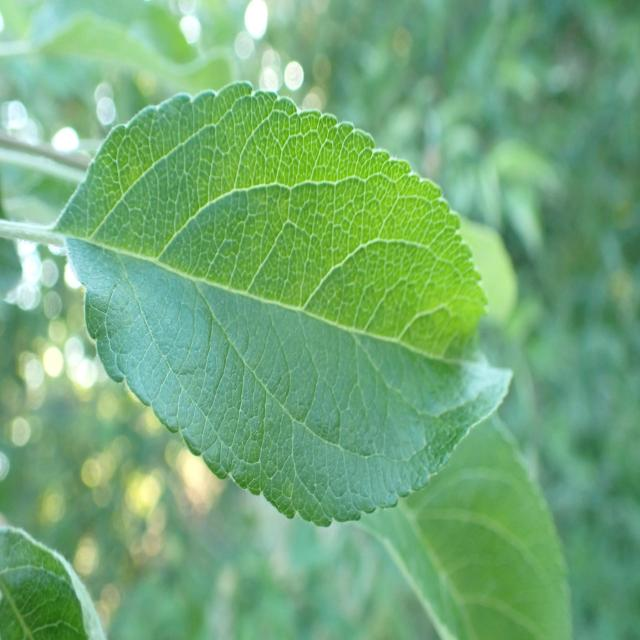healthy: (52, 81, 515, 529), (352, 414, 574, 640), (0, 525, 106, 640)
